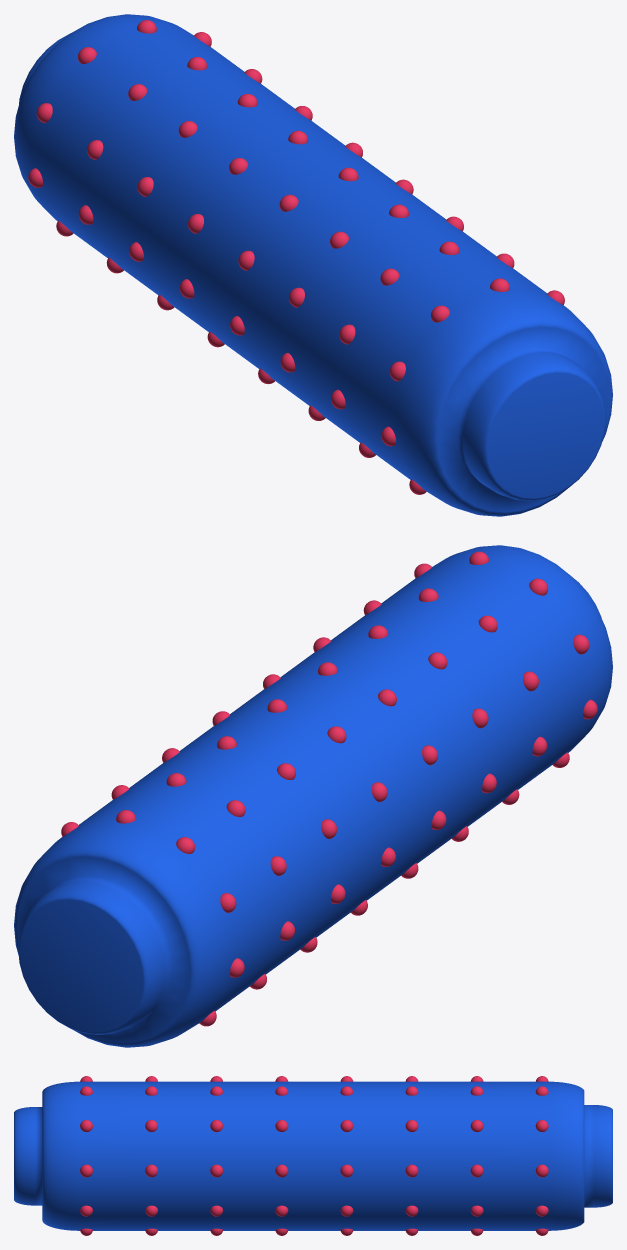
The model's file is obstacle_cylander 1.fbx.
The picture shows the model from 3 angles, top to bottom: view 1: azimuth 30°, elevation 25°; view 2: azimuth 150°, elevation 25°; view 3: azimuth 270°, elevation 25°; orthographic projection. The views are drawn at different scales.
Parts seen in each view (by area): view 1: Cylinder; view 2: Cylinder; view 3: Cylinder.
Part boxes in pixels (bbox=[...]): Cylinder: bbox=[14, 14, 612, 516]; Cylinder: bbox=[14, 545, 612, 1047]; Cylinder: bbox=[14, 1076, 612, 1235].
Bounding box in the file's own units: 212 × 215 × 802.
